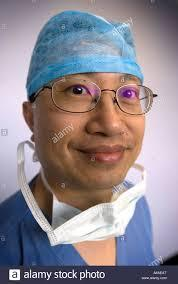Wore Mask Incorrectly: (22, 8, 163, 262)
